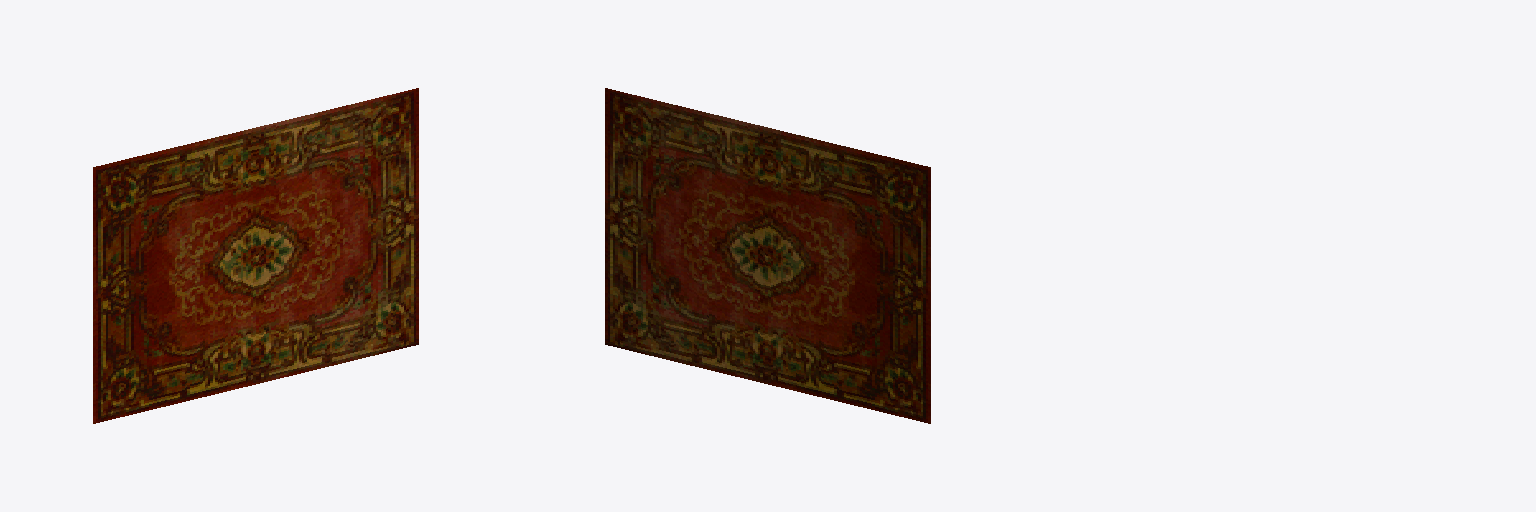
3 views of the same model, side by side, from view 1: azimuth 30°, elevation 25°; view 2: azimuth 150°, elevation 25°; view 3: azimuth 270°, elevation 25° (orthographic).
Size of the model in its own units: 7.99 by 6.02 by 0.
Materials: 1 (1 with a texture image).